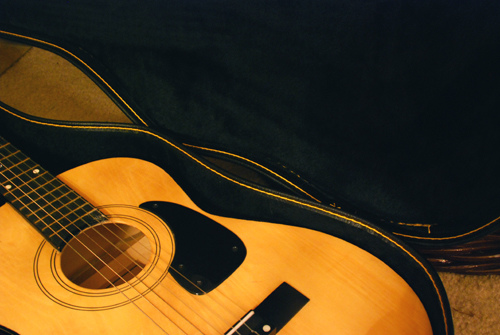guitar: (1, 133, 433, 335)
